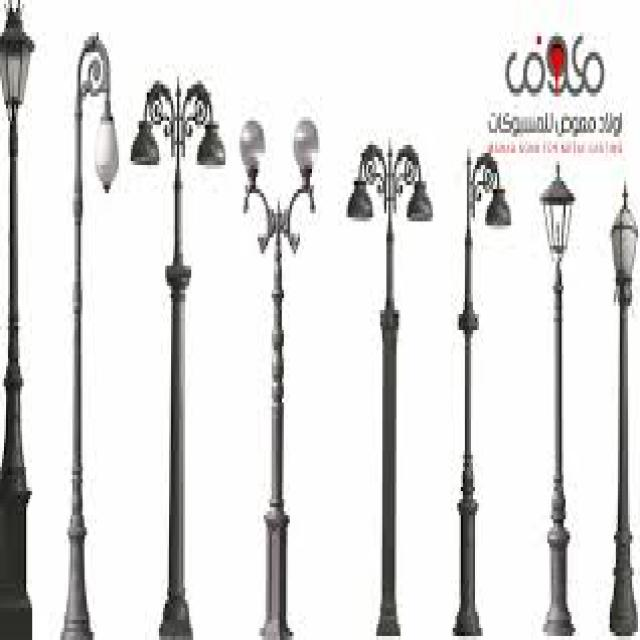Street Light: (129, 72, 223, 640), (235, 121, 322, 640), (346, 137, 433, 640), (60, 32, 117, 640), (451, 145, 511, 632), (2, 4, 36, 640), (540, 161, 576, 636), (606, 181, 640, 632)
